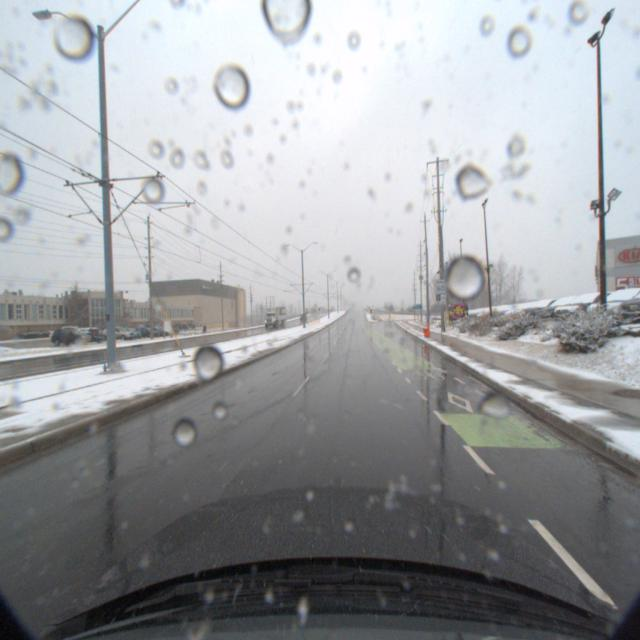Car: (542, 290, 632, 326), (526, 293, 604, 325), (509, 296, 577, 324)
Truck: (261, 306, 287, 326)
